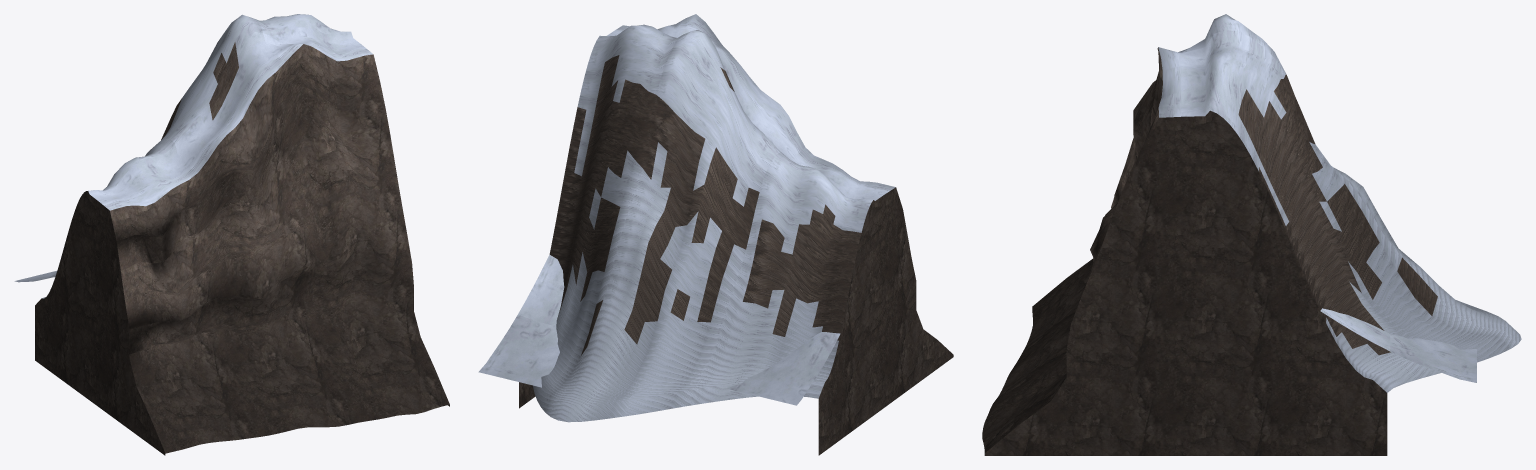
File: seacliff_step_h3h5_v5_winter.glb
3 renders of one model, left to right at view 1: azimuth 30°, elevation 25°; view 2: azimuth 150°, elevation 25°; view 3: azimuth 270°, elevation 25°, orthographic. The views are drawn at different scales.
Visible parts, largest first — view 1: seacliff_step_h3h5; view 2: seacliff_step_h3h5; view 3: seacliff_step_h3h5.
Boxes of the visible parts, box(x1,y1,x2,y2) form: seacliff_step_h3h5: box(14, 14, 449, 455); seacliff_step_h3h5: box(478, 14, 953, 455); seacliff_step_h3h5: box(982, 14, 1521, 455).
Bounding box in the file's own units: 6 × 7.32 × 9.33.
Materials: 2 (2 with a texture image).
